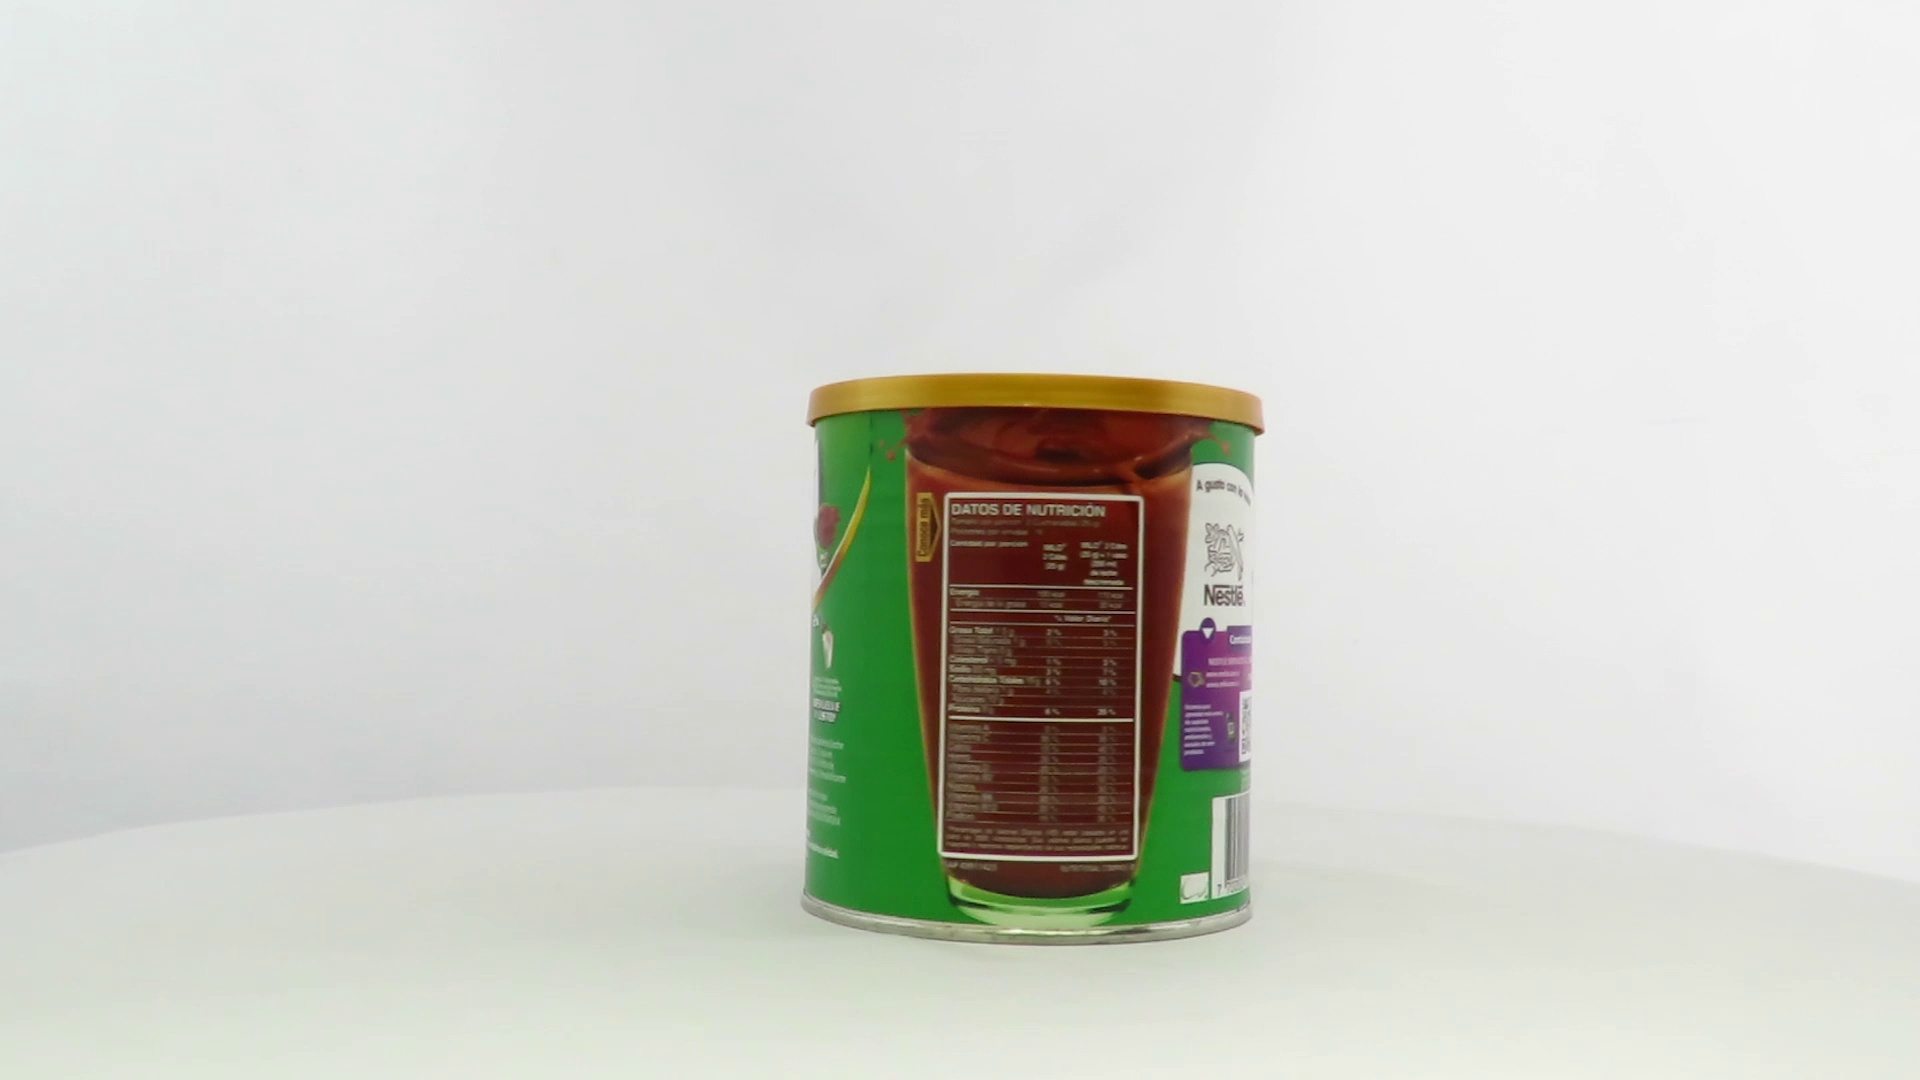COL0170203LAT40000: (795, 368, 1271, 953)
